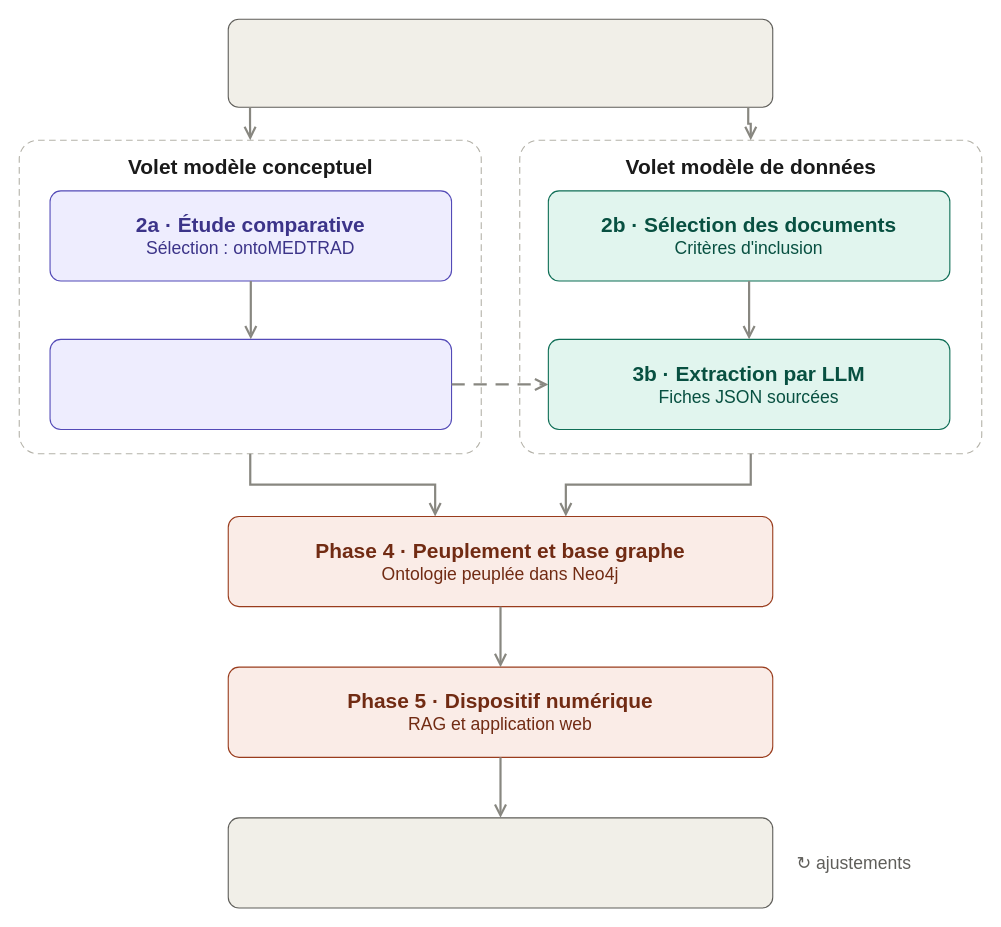
This 1001x927 diagram has some shape labels left out. Each missing label, with the centre of its shape:
"3a · Adaptation du modèle Schéma OntoPlantMedBF" goes at (x=250, y=384).
"Phase 1 · Constitution du corpus Ontologies et documents scientifiques" goes at (x=500, y=62).
"Phase 6 · Évaluation Ontologie, RAG, application" goes at (x=500, y=862).
